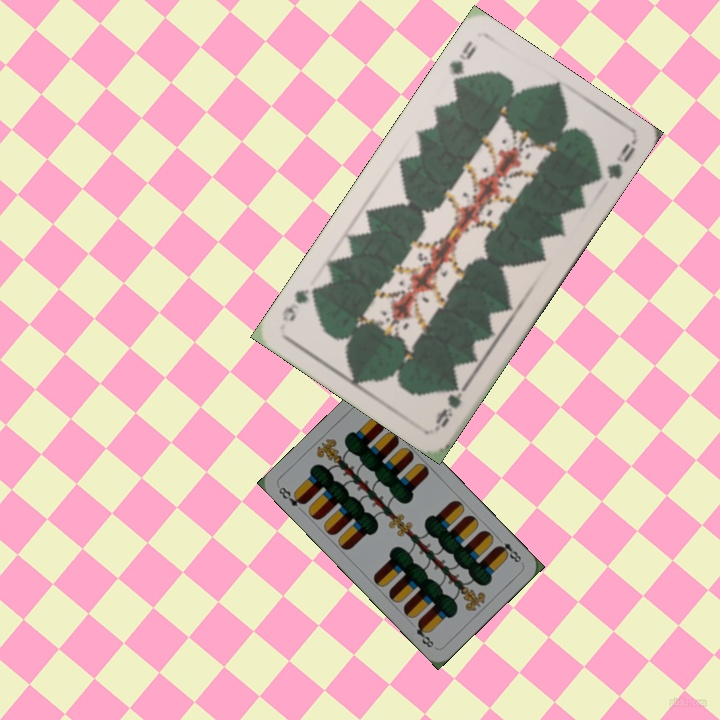E8: (493, 533, 524, 565), (274, 483, 308, 509)
G9: (431, 379, 471, 432), (445, 36, 480, 93)
